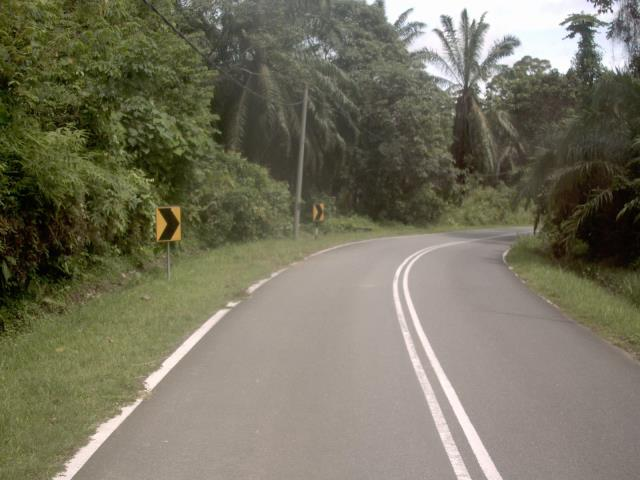traffic_sign: (145, 198, 190, 250)
